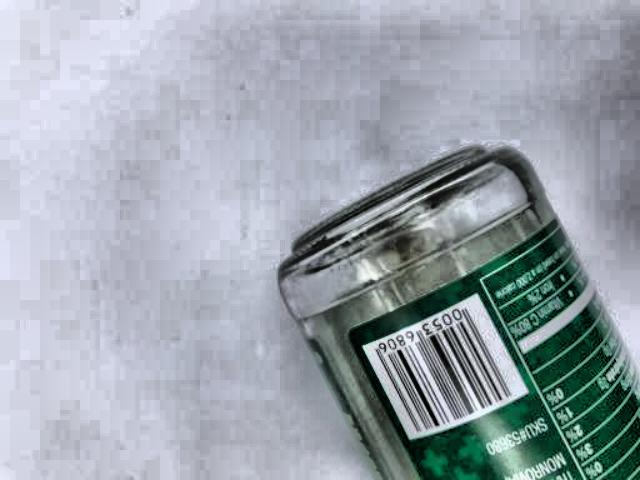Almennt: (271, 130, 640, 480)
